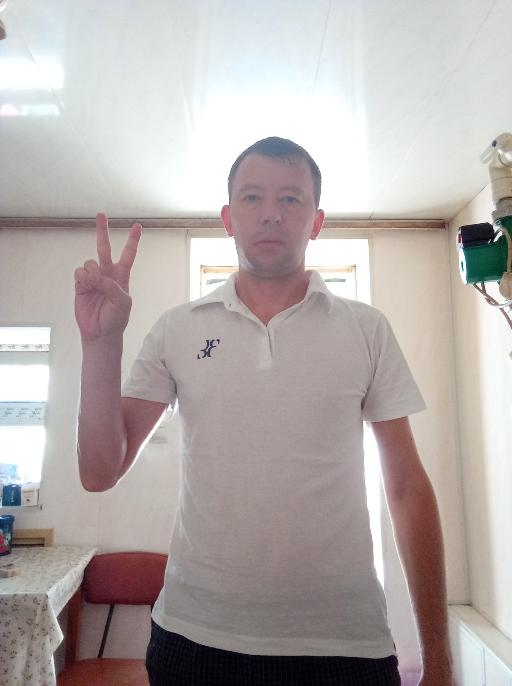peace: (70, 209, 144, 342)
